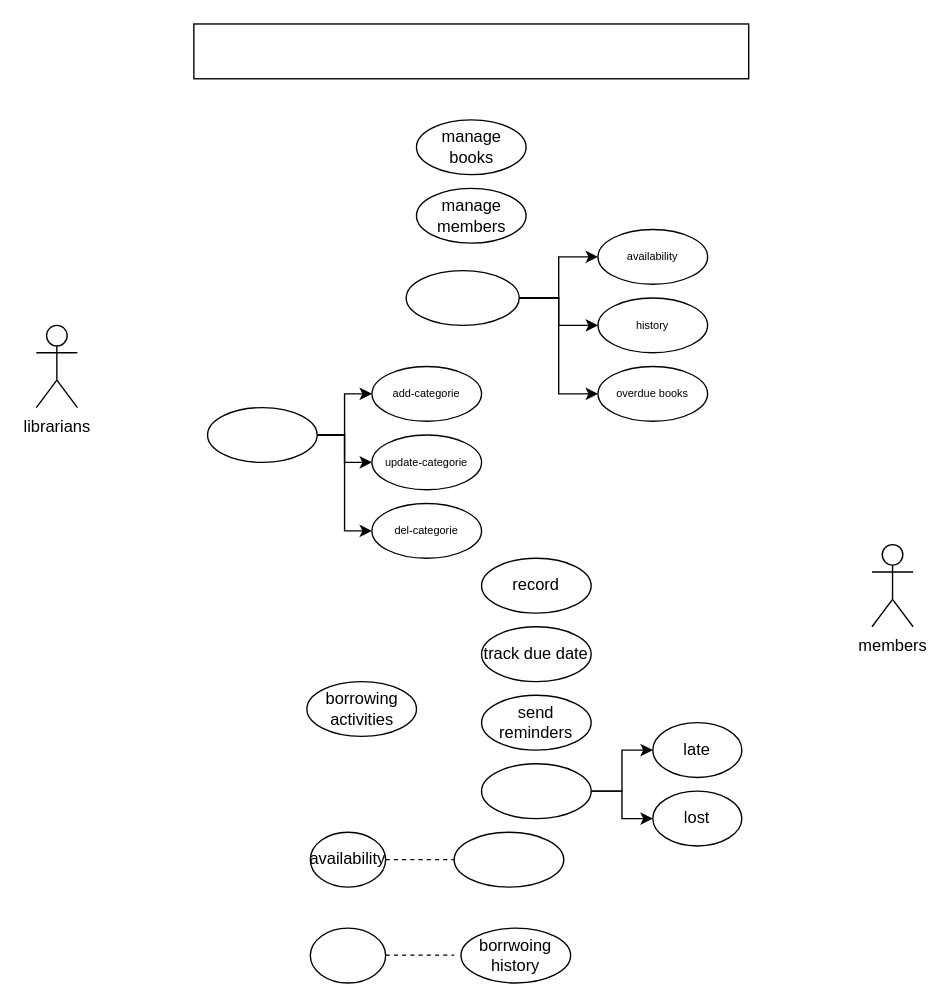
This 951x1007 diagram has some shape labels left out. The centre of each missing label's shape, as x and y in pixels:
due date: the point at 347,955
generate report: the point at 462,297
LMS: the point at 470,51
manage fines: the point at 535,790
organize: the point at 261,434
search: the point at 508,859
